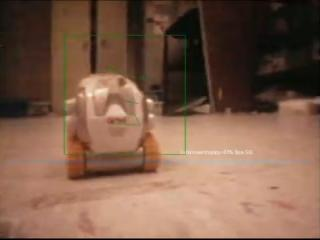cozmo: (64, 71, 160, 178)
